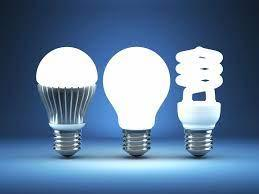Lamp: (28, 40, 98, 162), (103, 46, 171, 159), (175, 43, 223, 160)
